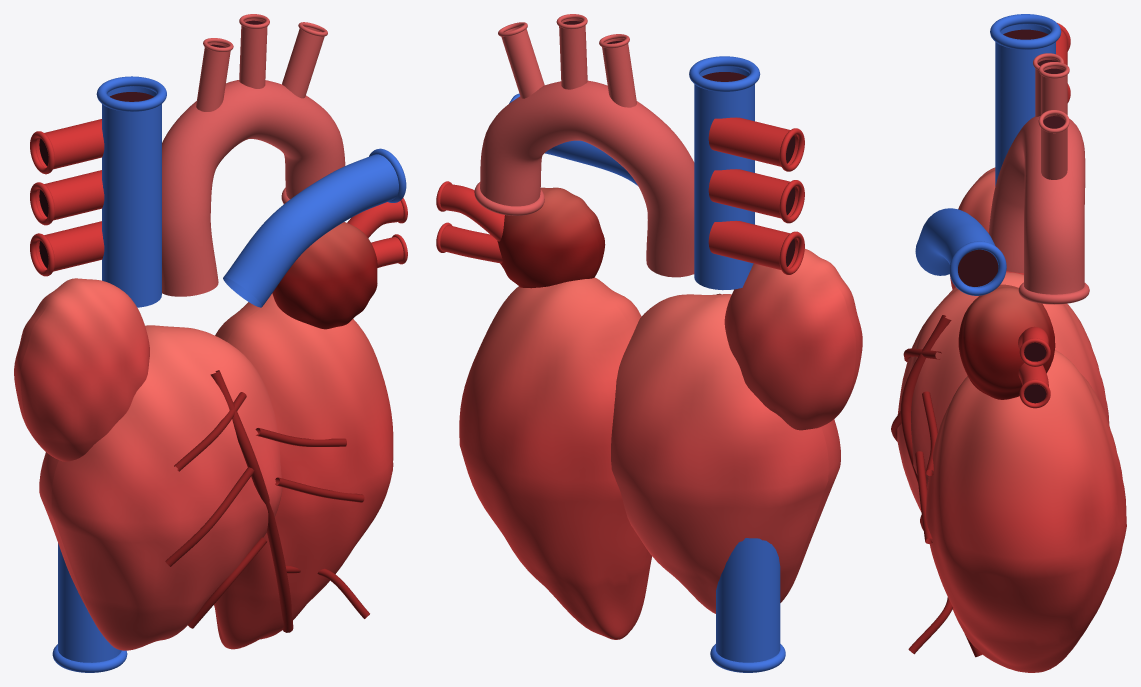
The model's file is heart.glb.
3 renders of one model, left to right at view 1: azimuth 30°, elevation 25°; view 2: azimuth 150°, elevation 25°; view 3: azimuth 270°, elevation 25°, orthographic.
Visible parts, largest first — view 1: p6_0, p7_0, p4_0, p0_0, p2_0, p1_0, p5_0, p9_0, p8_0, p3_3, p3_0, p3_6 (+16 smaller); view 2: p7_0, p6_0, p0_0, p4_0, p5_0, p2_0, p9_0, p3_0, p3_3, p3_6, p0_9, p0_6 (+9 smaller); view 3: p7_0, p0_0, p6_0, p5_0, p2_0, p1_0, p2_2, p8_0, p4_0, p1_2, p0_9, p1_1 (+10 smaller).
Boxes of the visible parts, <box> form: p6_0: <box>39,325,282,650</box>; p7_0: <box>214,293,393,649</box>; p4_0: <box>14,278,149,461</box>; p0_0: <box>162,80,345,296</box>; p2_0: <box>102,86,161,307</box>; p1_0: <box>223,154,398,307</box>; p5_0: <box>272,222,377,329</box>; p9_0: <box>58,543,121,662</box>; p8_0: <box>210,370,293,632</box>; p3_3: <box>36,170,104,220</box>; p3_0: <box>36,119,104,169</box>; p3_6: <box>36,221,104,271</box>; p7_0: <box>459,277,651,639</box>; p6_0: <box>611,294,840,613</box>; p0_0: <box>480,80,694,277</box>; p4_0: <box>724,249,862,430</box>; p5_0: <box>497,187,605,288</box>; p2_0: <box>694,66,754,290</box>; p9_0: <box>716,538,780,662</box>; p3_0: <box>708,117,798,166</box>; p3_3: <box>708,169,798,218</box>; p3_6: <box>708,220,798,269</box>; p0_9: <box>501,26,544,98</box>; p0_6: <box>559,18,587,89</box>; p7_0: <box>926,350,1126,672</box>; p0_0: <box>988,116,1085,294</box>; p6_0: <box>897,272,1109,511</box>; p5_0: <box>958,284,1055,399</box>; p2_0: <box>995,24,1055,186</box>; p1_0: <box>915,208,996,287</box>; p2_2: <box>990,14,1061,49</box>; p8_0: <box>900,315,983,657</box>; p4_0: <box>950,167,1023,289</box>; p1_2: <box>949,241,1006,295</box>; p0_9: <box>1041,114,1067,179</box>; p1_1: <box>958,249,998,286</box>.
Bounding box in the file's own units: 2.42 × 3.59 × 1.24.
